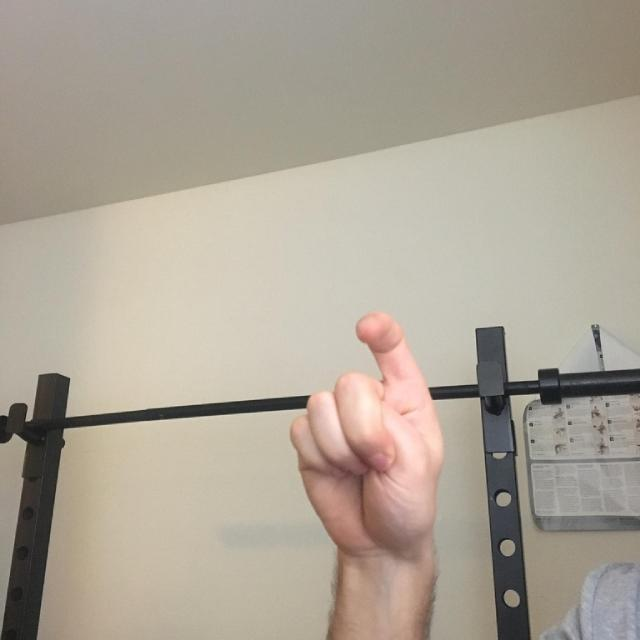X: (219, 306, 510, 588)
